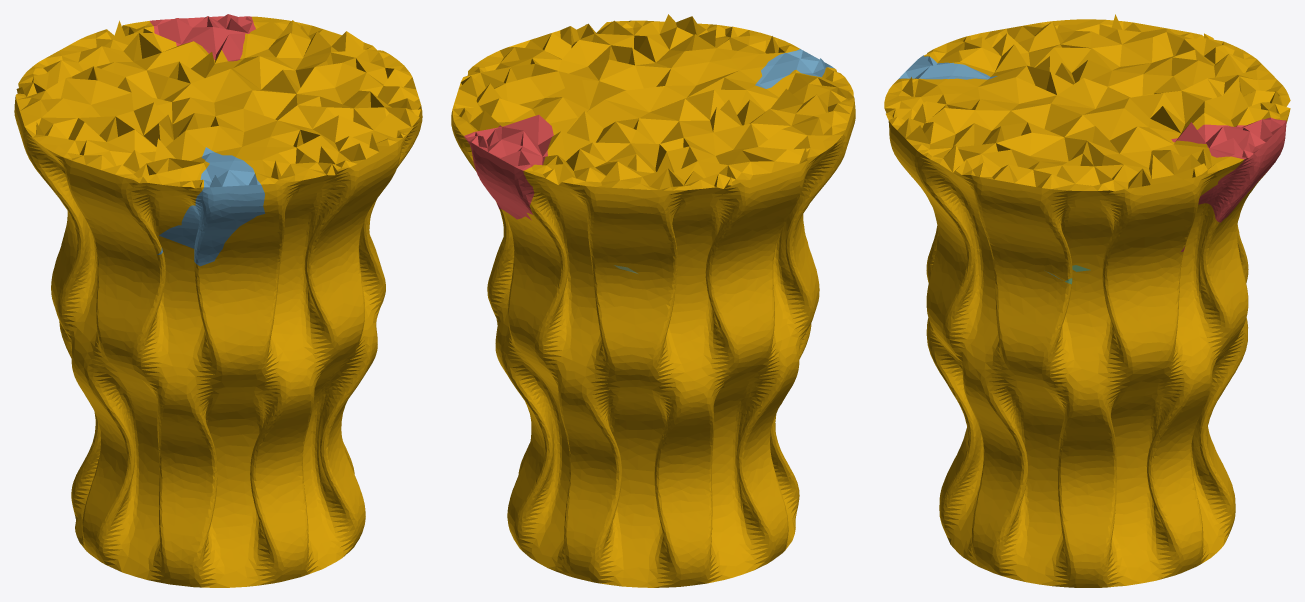
File: fractured_31_6pcs.glb
The picture shows the model from 3 angles, left to right: view 1: azimuth 30°, elevation 25°; view 2: azimuth 150°, elevation 25°; view 3: azimuth 270°, elevation 25°; orthographic projection.
Visible parts, largest first — view 1: piece_0.obj, piece_2.obj, piece_1.obj; view 2: piece_0.obj, piece_1.obj, piece_2.obj; view 3: piece_0.obj, piece_1.obj, piece_2.obj.
Part boxes in pixels (bbox=[...]): piece_0.obj: bbox=[14, 16, 422, 587]; piece_2.obj: bbox=[157, 147, 265, 266]; piece_1.obj: bbox=[150, 14, 255, 61]; piece_0.obj: bbox=[451, 14, 855, 587]; piece_1.obj: bbox=[464, 115, 553, 220]; piece_2.obj: bbox=[755, 49, 833, 88]; piece_0.obj: bbox=[884, 14, 1290, 587]; piece_1.obj: bbox=[1171, 117, 1286, 251]; piece_2.obj: bbox=[898, 55, 997, 79].
Bounding box in the file's own units: 0.842 × 1 × 0.842.
